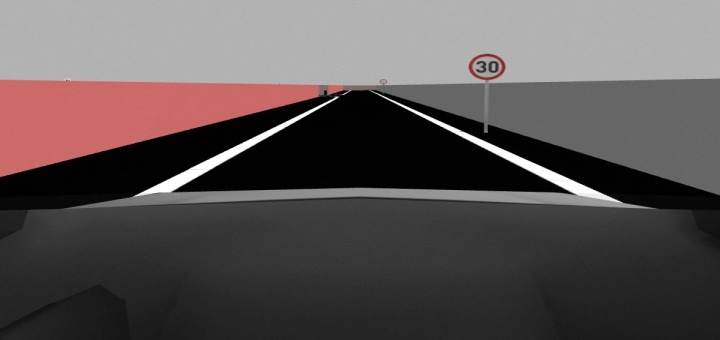hiz_30: (468, 52, 508, 80)
